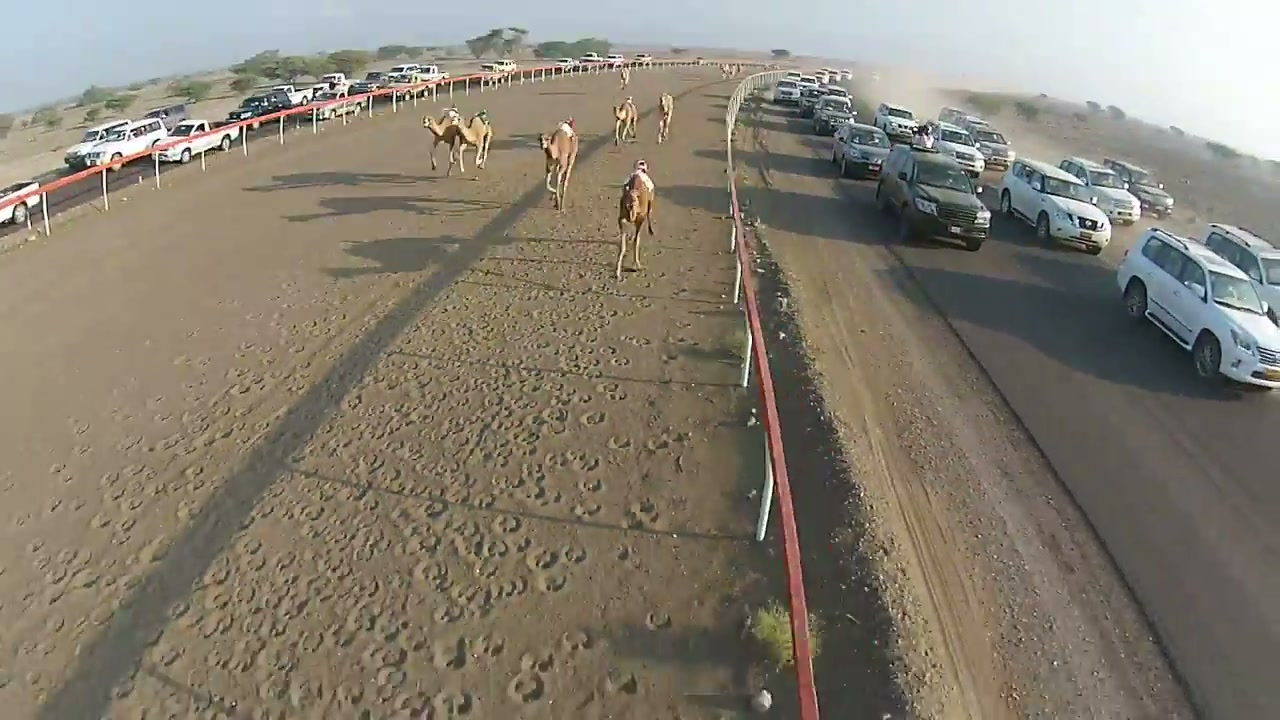animal_foot_print: (143, 272, 712, 719), (432, 689, 477, 719), (507, 671, 545, 703), (432, 637, 468, 670), (362, 643, 407, 668), (375, 665, 407, 700), (626, 500, 659, 529), (559, 630, 594, 656), (645, 431, 688, 452), (521, 485, 562, 507), (602, 670, 638, 694), (490, 577, 529, 599), (519, 650, 556, 673), (471, 635, 505, 660), (526, 548, 560, 570), (432, 601, 465, 623), (569, 451, 601, 472), (596, 381, 627, 402), (536, 572, 567, 593), (491, 513, 522, 534), (560, 544, 589, 565), (615, 545, 641, 568), (572, 501, 602, 519), (645, 610, 671, 629), (606, 435, 634, 450), (580, 411, 606, 426), (578, 477, 603, 492), (622, 336, 651, 346), (598, 345, 618, 356), (610, 356, 630, 366)
